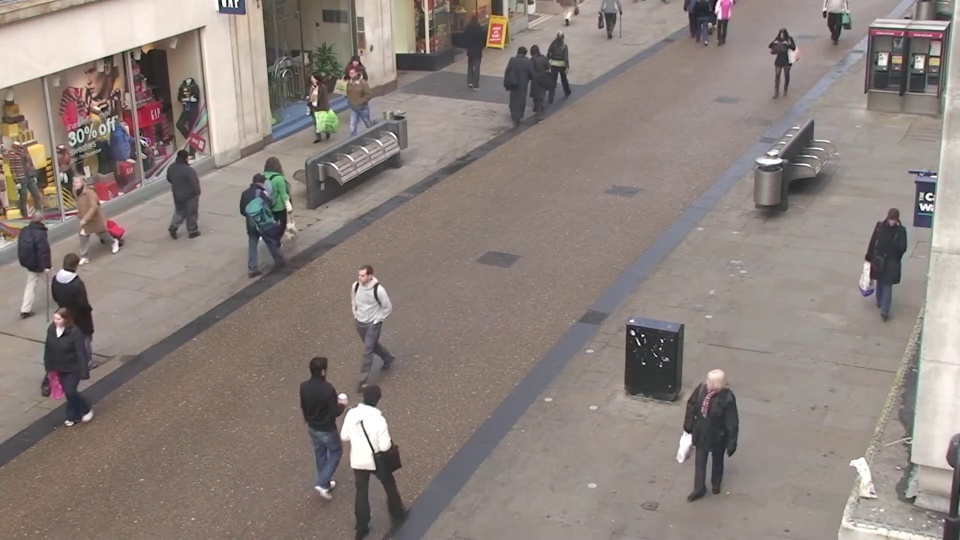pedestrian: (23, 307, 90, 452), (676, 369, 732, 531), (358, 368, 415, 527), (305, 341, 361, 493), (58, 240, 115, 366), (332, 261, 381, 394), (27, 199, 83, 315), (863, 210, 914, 332), (49, 171, 100, 278), (250, 165, 291, 273), (268, 151, 307, 255), (173, 139, 213, 239), (298, 71, 328, 153), (335, 64, 364, 144), (339, 54, 367, 132), (763, 28, 791, 101), (521, 41, 547, 116), (511, 42, 537, 117), (553, 24, 577, 95), (460, 13, 484, 80)
